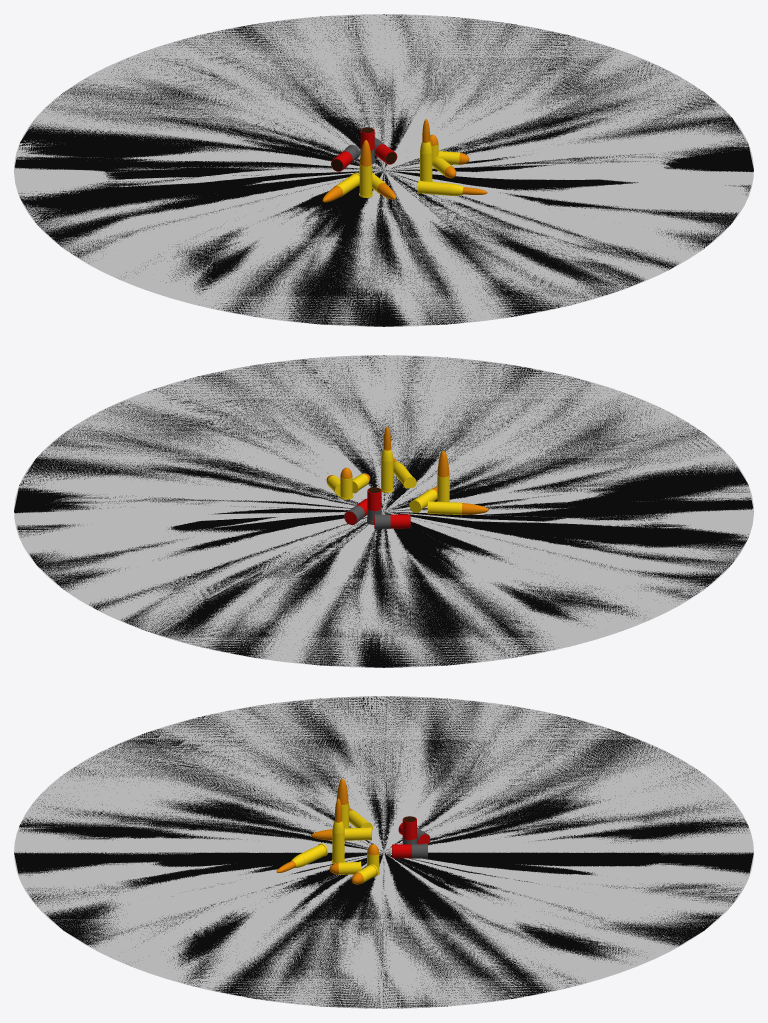
Rendered from Bullets.fbx.
3 renders of one model, top to bottom at view 1: azimuth 30°, elevation 25°; view 2: azimuth 150°, elevation 25°; view 3: azimuth 270°, elevation 25°, orthographic.
Visible parts, largest first — view 1: suelo_visible, Suelo_reflectivo; view 2: suelo_visible, Suelo_reflectivo, Cilindro_7; view 3: suelo_visible, Suelo_reflectivo, Cilindro_6.
Part boxes in pixels (bbox=[...]): suelo_visible: bbox=[14, 14, 753, 326]; Suelo_reflectivo: bbox=[14, 14, 753, 326]; suelo_visible: bbox=[14, 355, 753, 667]; Suelo_reflectivo: bbox=[14, 355, 753, 667]; Cilindro_7: bbox=[374, 514, 410, 529]; suelo_visible: bbox=[14, 696, 753, 1008]; Suelo_reflectivo: bbox=[14, 696, 753, 1008]; Cilindro_6: bbox=[392, 843, 427, 858].
Bounding box in the file's own units: 6000 × 580 × 6000.
